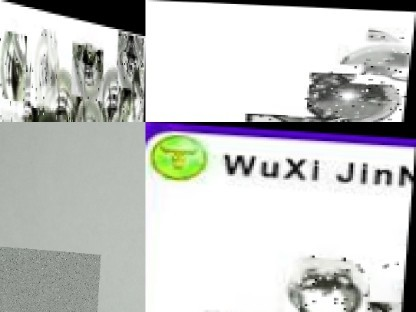ironball: (304, 69, 409, 121), (287, 251, 371, 311), (348, 29, 413, 74), (0, 30, 27, 121), (30, 24, 57, 106), (367, 248, 405, 304), (71, 36, 103, 97), (116, 23, 143, 91), (247, 112, 365, 121), (130, 57, 144, 121), (114, 88, 136, 121), (32, 105, 65, 121), (0, 105, 29, 121), (72, 100, 93, 121), (207, 309, 304, 311), (359, 119, 405, 121)
